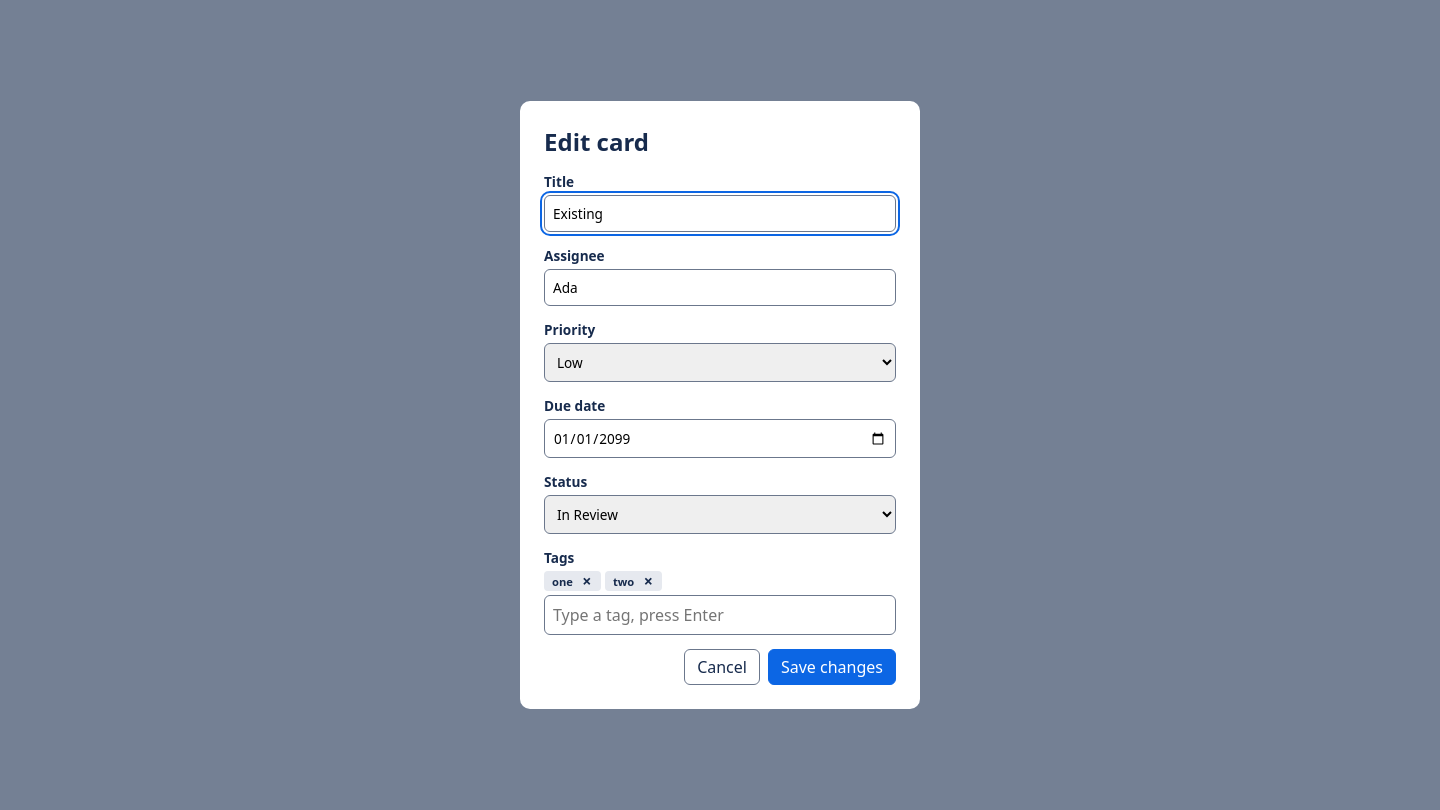
Test: CardModal › tags › removes a tag with its button and with Backspace on an empty input
Click the button named "Remove tag one" at [587, 581], box [575,569,599,593]
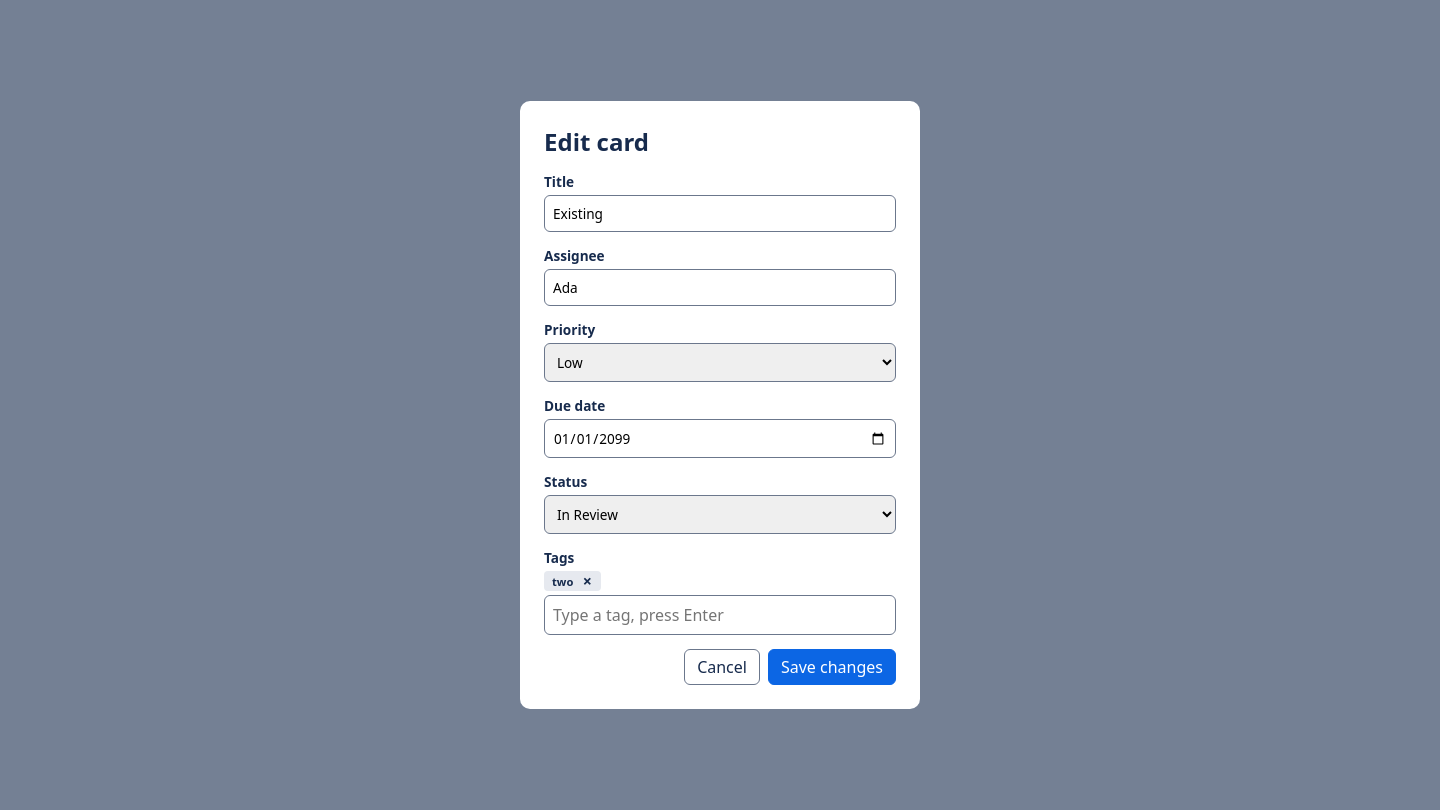
expect the list item "one" is gone: met
Click the field labelled "Tags" at [720, 615], box [544,595,896,635]
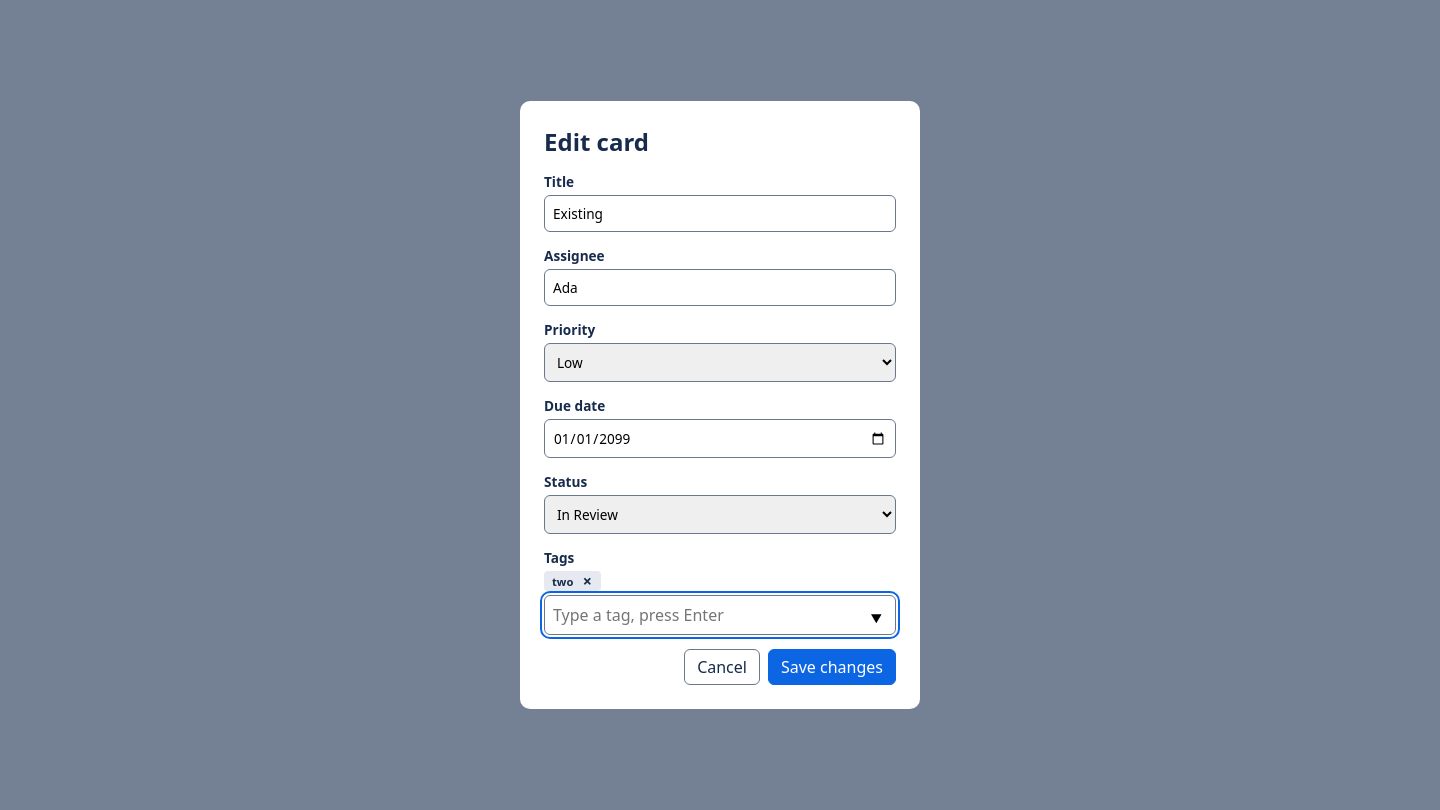
Press Backspace
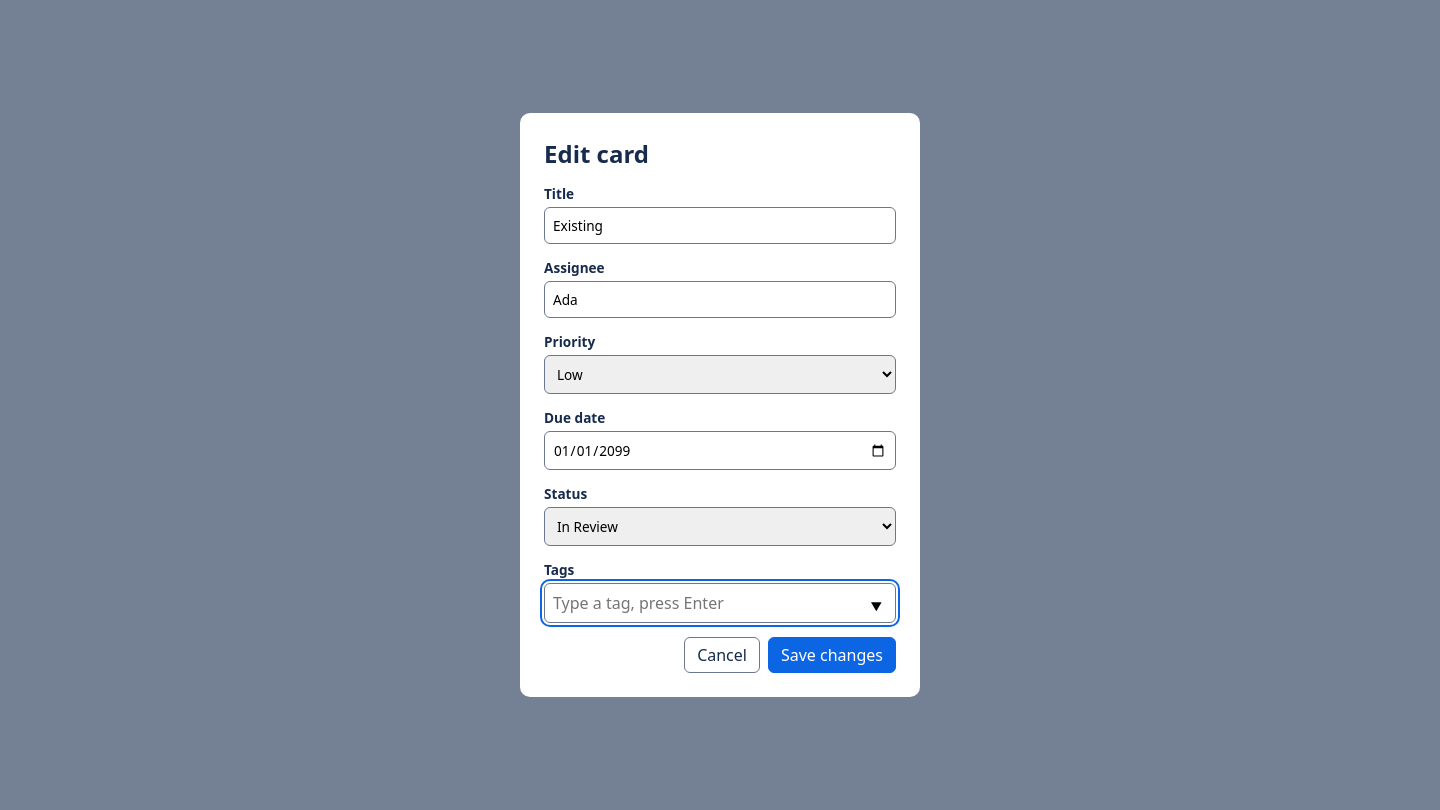
expect the button "Remove tag" is gone: met
